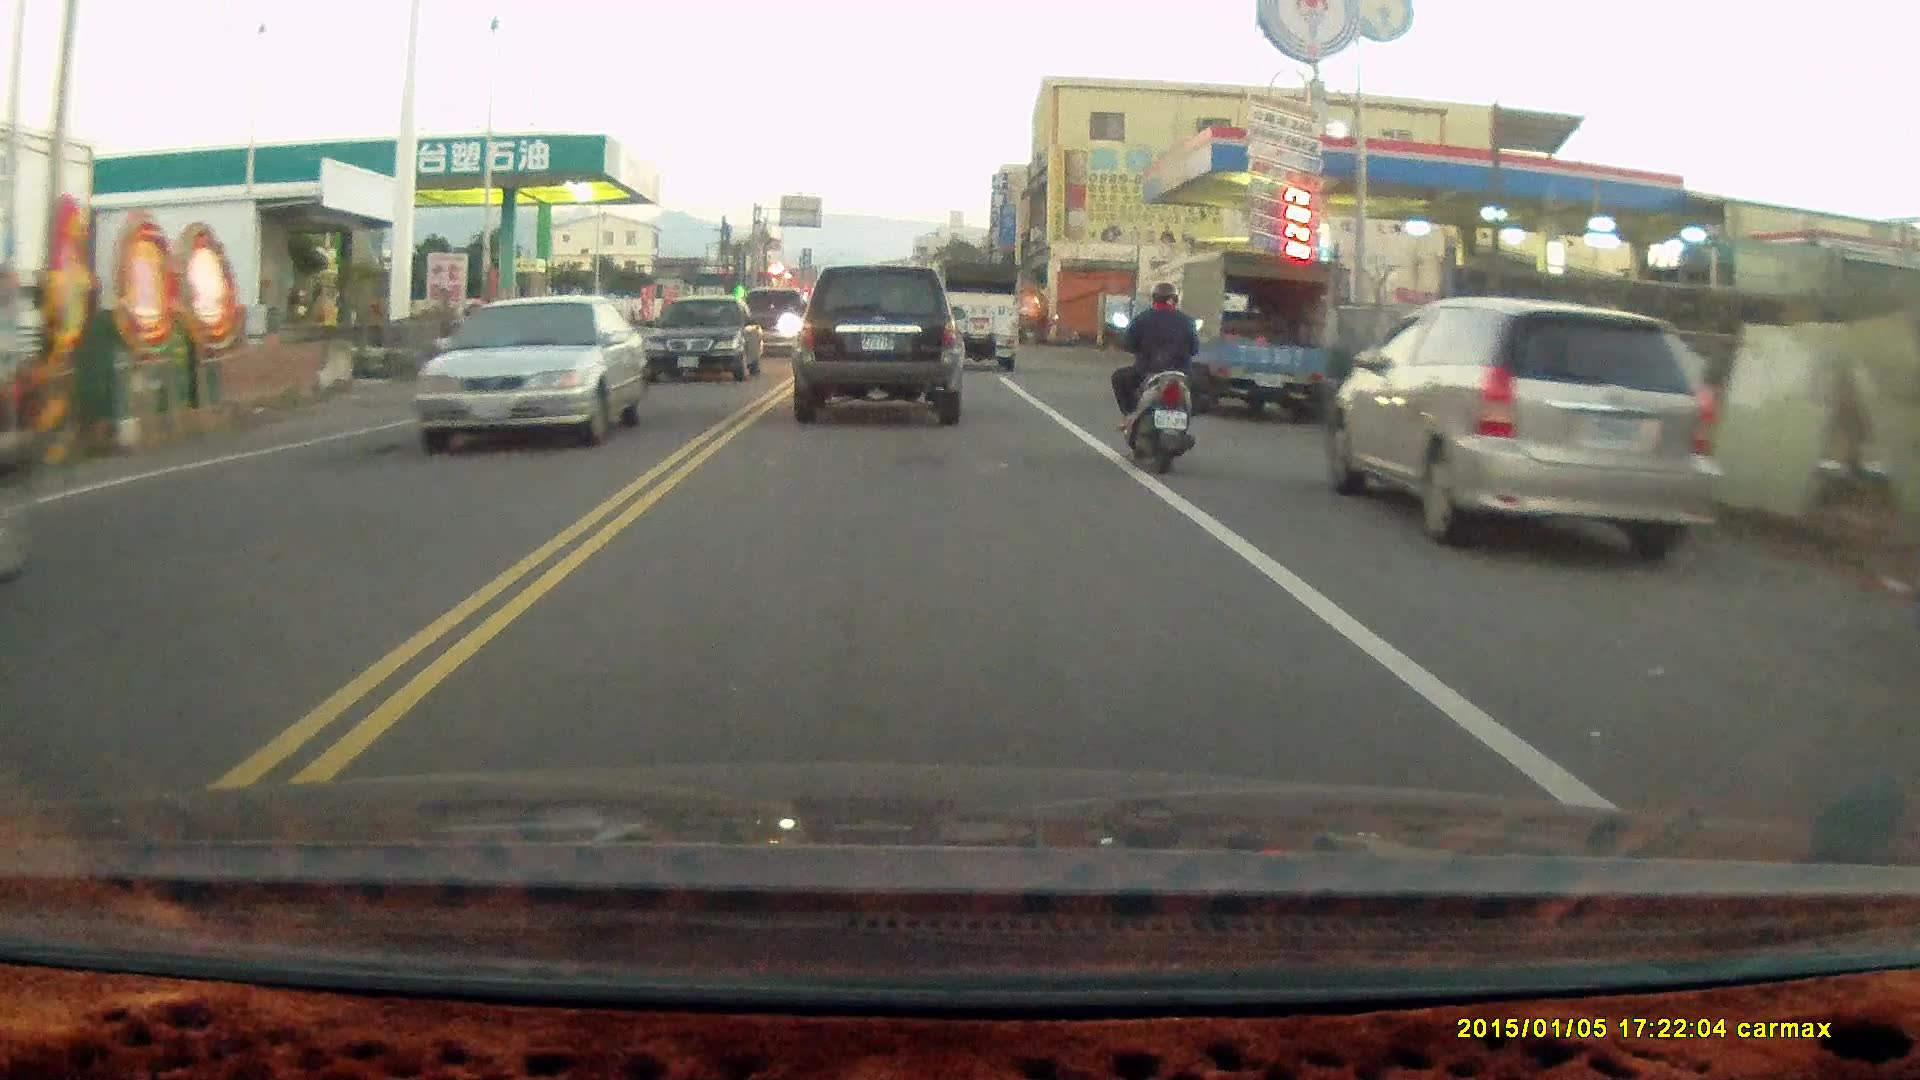rider: (1110, 277, 1209, 471)
vehicle: (1329, 297, 1722, 567), (416, 293, 647, 455), (1157, 253, 1330, 422), (791, 264, 965, 426), (647, 296, 762, 380), (936, 257, 1019, 371)
